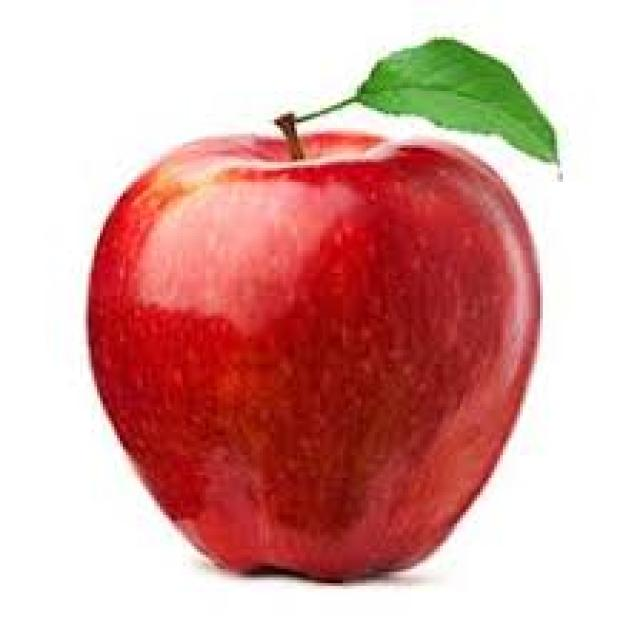apple: (83, 116, 530, 593)
